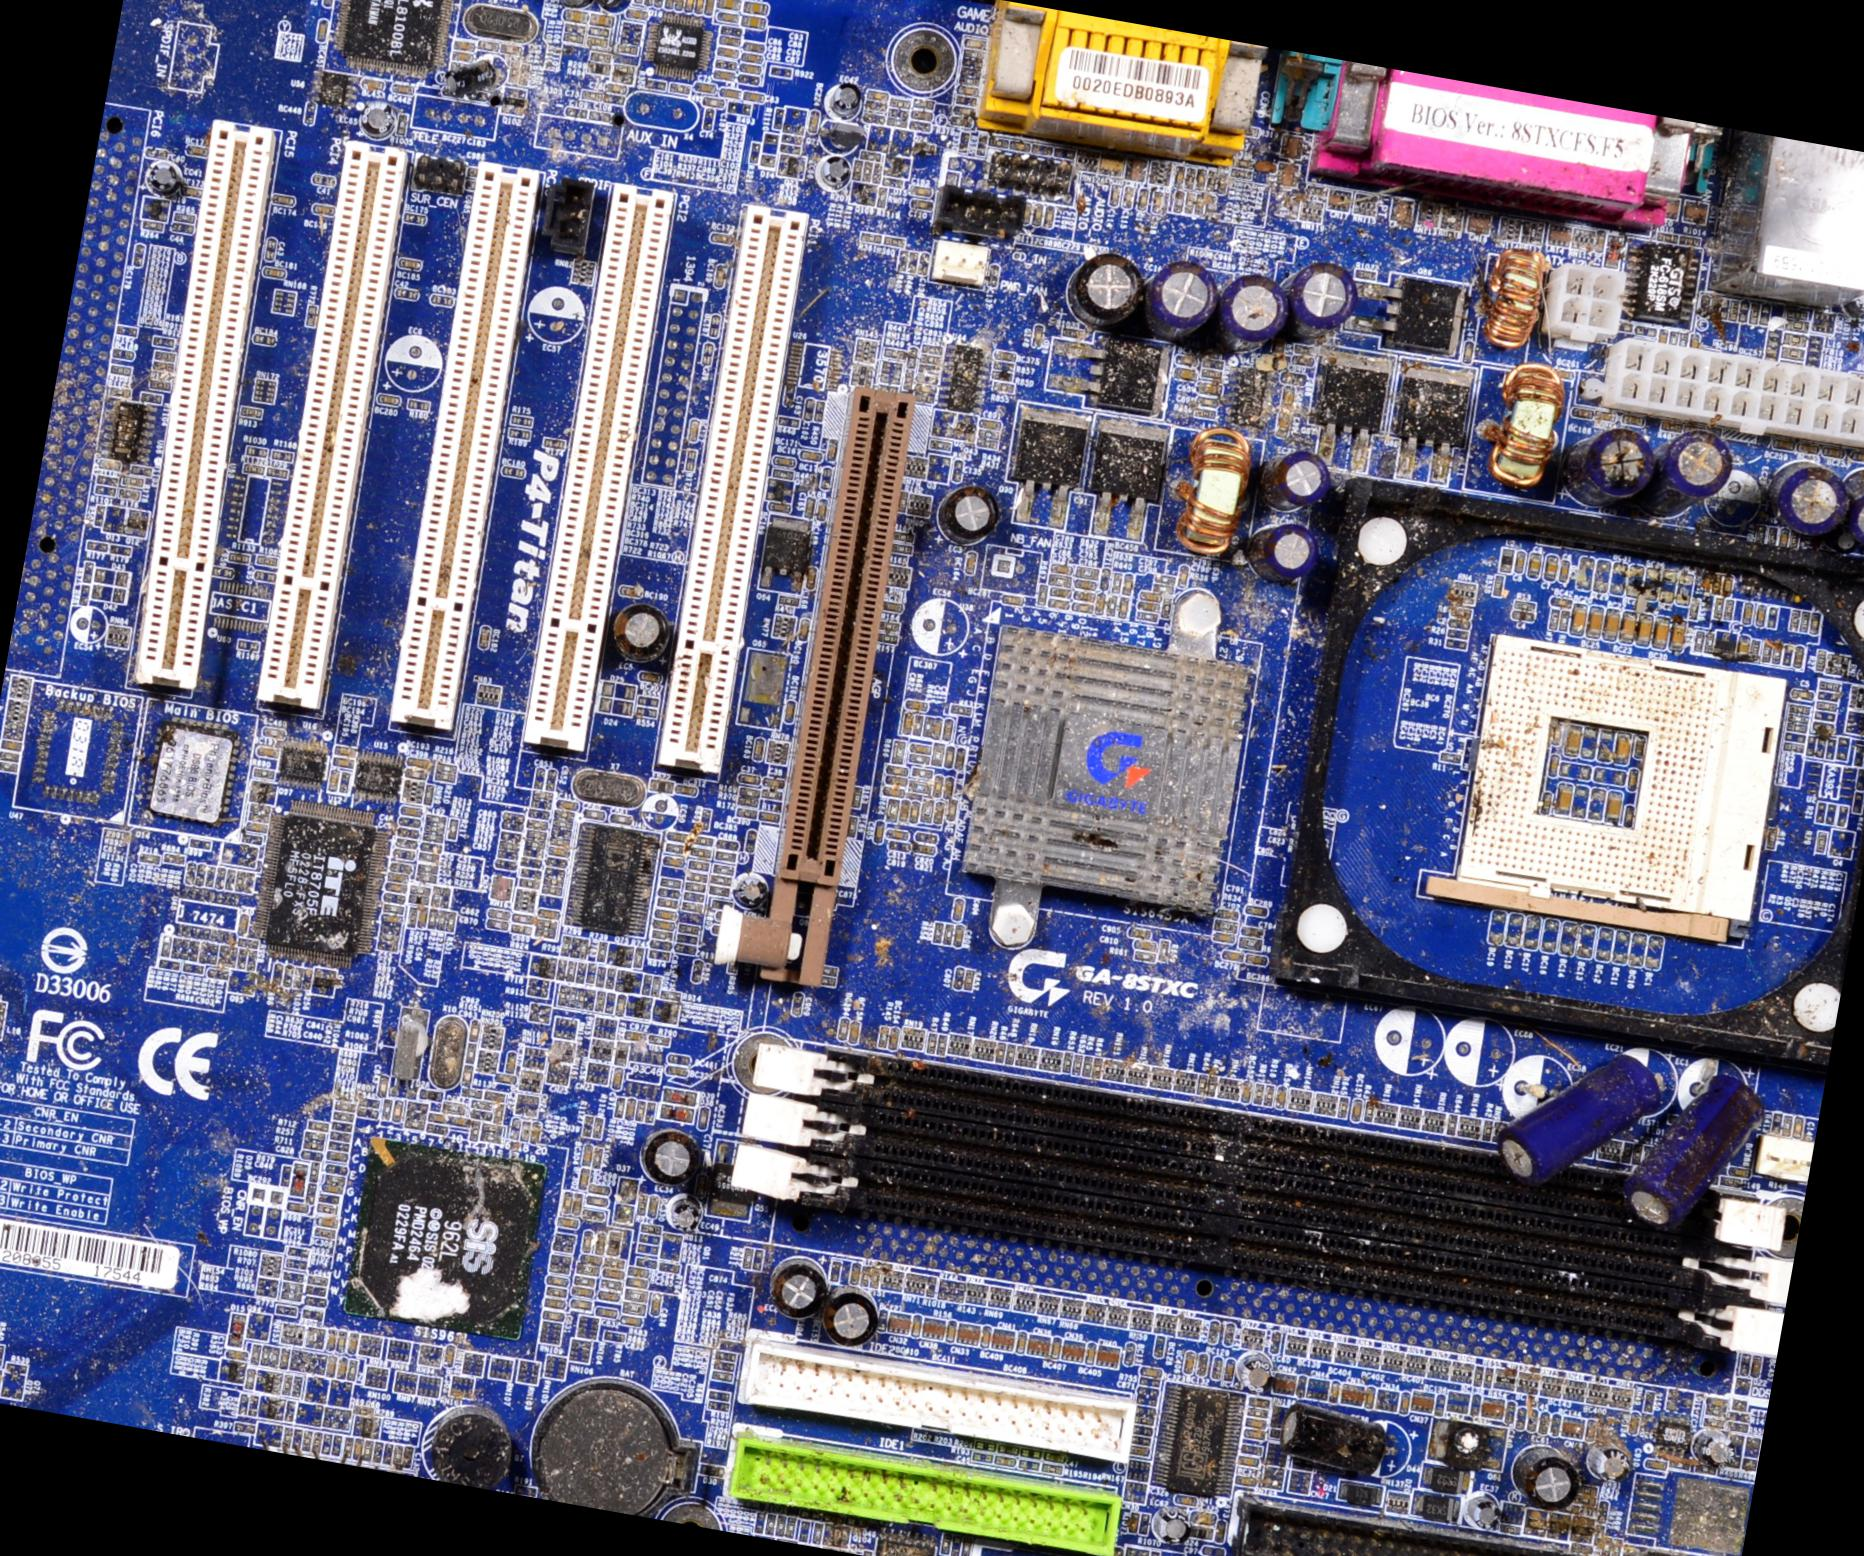Capacitor Jumper: (390, 1098, 407, 1126), (949, 896, 966, 923), (742, 12, 768, 29), (870, 817, 886, 845), (345, 1333, 361, 1361), (884, 825, 909, 842), (949, 965, 965, 991), (647, 1291, 663, 1318), (742, 39, 765, 56), (735, 771, 760, 787), (581, 1146, 596, 1170), (743, 0, 768, 15), (912, 830, 938, 844), (559, 1189, 573, 1215), (622, 1277, 649, 1291), (989, 1454, 1016, 1468), (1048, 585, 1071, 601), (912, 844, 937, 858), (1132, 938, 1156, 952), (577, 1164, 591, 1189), (1073, 578, 1098, 591), (952, 923, 965, 949), (624, 1265, 647, 1279), (570, 1287, 593, 1301), (224, 1350, 248, 1364), (740, 53, 763, 67), (622, 1098, 635, 1122), (540, 1299, 565, 1311), (762, 776, 783, 790), (1127, 926, 1149, 940), (647, 1195, 658, 1222), (375, 1074, 389, 1095), (449, 1115, 469, 1129), (624, 1031, 646, 1044), (570, 1297, 591, 1310), (351, 1438, 364, 1460), (1050, 564, 1071, 576), (1071, 590, 1093, 602), (1047, 596, 1068, 608), (889, 839, 909, 852), (557, 1215, 577, 1228), (581, 1254, 601, 1266), (619, 1316, 641, 1327), (336, 1359, 347, 1381), (1071, 601, 1093, 612), (1043, 1454, 1064, 1465), (740, 63, 760, 74), (601, 1270, 624, 1279), (588, 1195, 604, 1208), (325, 1356, 334, 1376), (598, 1307, 616, 1316), (429, 1113, 444, 1124), (328, 1330, 336, 1352), (776, 1536, 797, 1544)
Connector: (378, 161, 565, 745), (636, 197, 819, 777), (242, 141, 423, 714), (115, 119, 296, 689), (511, 181, 686, 759), (1302, 57, 1697, 245), (963, 0, 1271, 200), (1596, 345, 1862, 457)
IC: (341, 1136, 553, 1339), (248, 794, 398, 972), (124, 709, 252, 835), (564, 824, 666, 946), (1144, 1379, 1245, 1500), (330, 0, 458, 84), (641, 9, 717, 81), (93, 398, 164, 472), (274, 731, 328, 793), (353, 751, 404, 808), (305, 70, 359, 110), (873, 1523, 940, 1554)
Resistor Jumper: (139, 215, 176, 234), (1074, 564, 1098, 582), (523, 983, 548, 1000), (1130, 951, 1158, 965), (773, 1514, 788, 1539), (937, 1533, 954, 1554), (1039, 1465, 1065, 1479), (811, 1520, 825, 1547), (302, 1138, 325, 1153), (642, 1101, 656, 1126), (972, 1440, 997, 1454), (310, 1429, 324, 1454), (0, 748, 22, 763), (1335, 1096, 1350, 1118), (876, 1023, 889, 1050), (525, 975, 551, 988), (929, 921, 943, 944), (940, 923, 954, 946), (593, 940, 607, 963), (1070, 1054, 1084, 1078), (612, 1096, 625, 1119), (390, 1445, 404, 1468), (769, 65, 793, 79), (173, 211, 197, 224), (1047, 573, 1070, 587), (635, 704, 656, 718), (735, 796, 759, 808), (1195, 1071, 1208, 1095), (1251, 1082, 1263, 1105), (1081, 1054, 1093, 1078), (633, 1099, 646, 1122), (302, 1129, 325, 1141), (602, 1276, 621, 1291), (995, 1443, 1019, 1455), (971, 1452, 994, 1465), (1090, 1057, 1104, 1078), (958, 1534, 972, 1554), (636, 695, 658, 708), (1204, 1074, 1217, 1096), (994, 1040, 1006, 1062), (649, 1034, 670, 1047), (307, 1119, 328, 1132), (361, 1440, 373, 1462), (342, 1435, 353, 1460), (300, 1431, 313, 1452), (765, 1514, 777, 1536), (282, 1427, 293, 1451), (540, 1311, 560, 1324), (0, 760, 17, 774), (737, 787, 759, 797), (1003, 1044, 1014, 1065), (924, 1031, 935, 1053), (622, 1304, 644, 1314), (1019, 1448, 1040, 1458), (786, 1516, 797, 1537), (735, 808, 756, 819), (1062, 1050, 1073, 1070), (322, 1184, 342, 1195), (314, 1217, 334, 1228), (574, 1277, 594, 1288), (627, 1291, 647, 1302), (545, 1288, 565, 1299), (937, 1033, 946, 1056), (277, 1347, 286, 1370), (1263, 1084, 1273, 1104)
